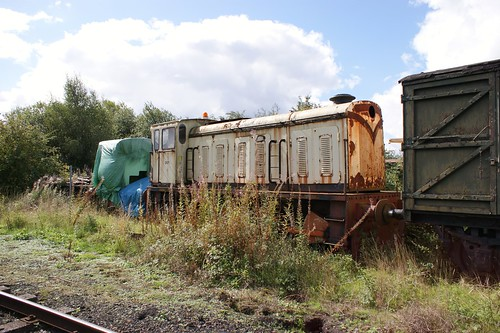sky: (11, 1, 500, 102)
train: (143, 47, 500, 229)
train track: (1, 280, 120, 333)
